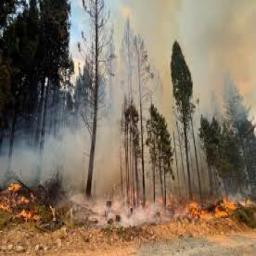Low smoke: (96, 0, 253, 119), (3, 119, 131, 183)
Small fire: (1, 173, 66, 232), (131, 194, 256, 223)
